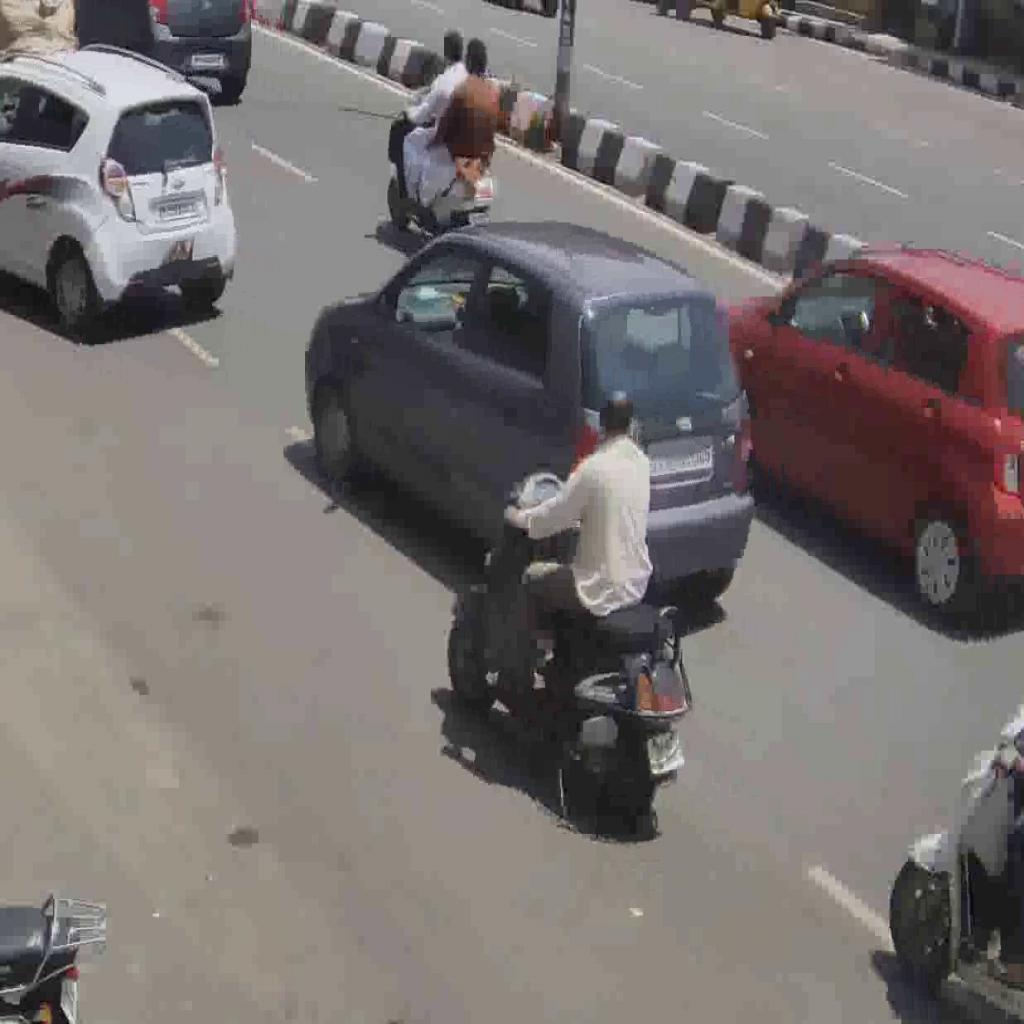helmet: (446, 468, 694, 835), (385, 85, 498, 233)
